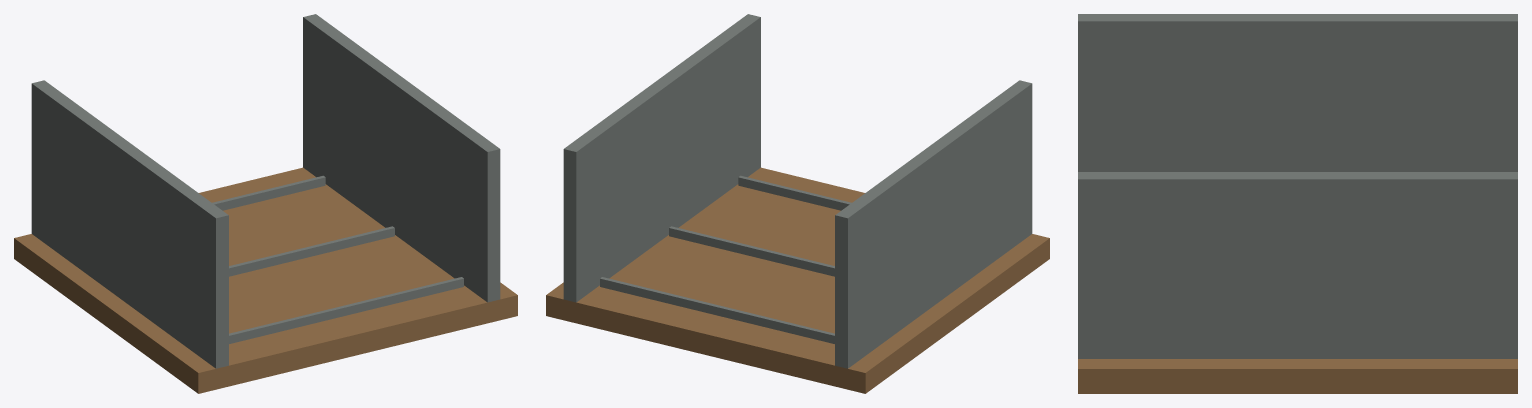
The model's file is terrain-bridge-stone.lod0.glb.
3 views of the same model, side by side, from view 1: azimuth 30°, elevation 25°; view 2: azimuth 150°, elevation 25°; view 3: azimuth 270°, elevation 25° (orthographic). The views are drawn at different scales.
Visible parts, largest first — view 1: terrain-bridge-stone__body; view 2: terrain-bridge-stone__body; view 3: terrain-bridge-stone__body.
Boxes of the visible parts, x1,y1,x2,y2 form: terrain-bridge-stone__body: (14,14,517,393); terrain-bridge-stone__body: (546,14,1049,393); terrain-bridge-stone__body: (1078,14,1517,393).
Size of the model in its own units: 2 by 1.02 by 2.
